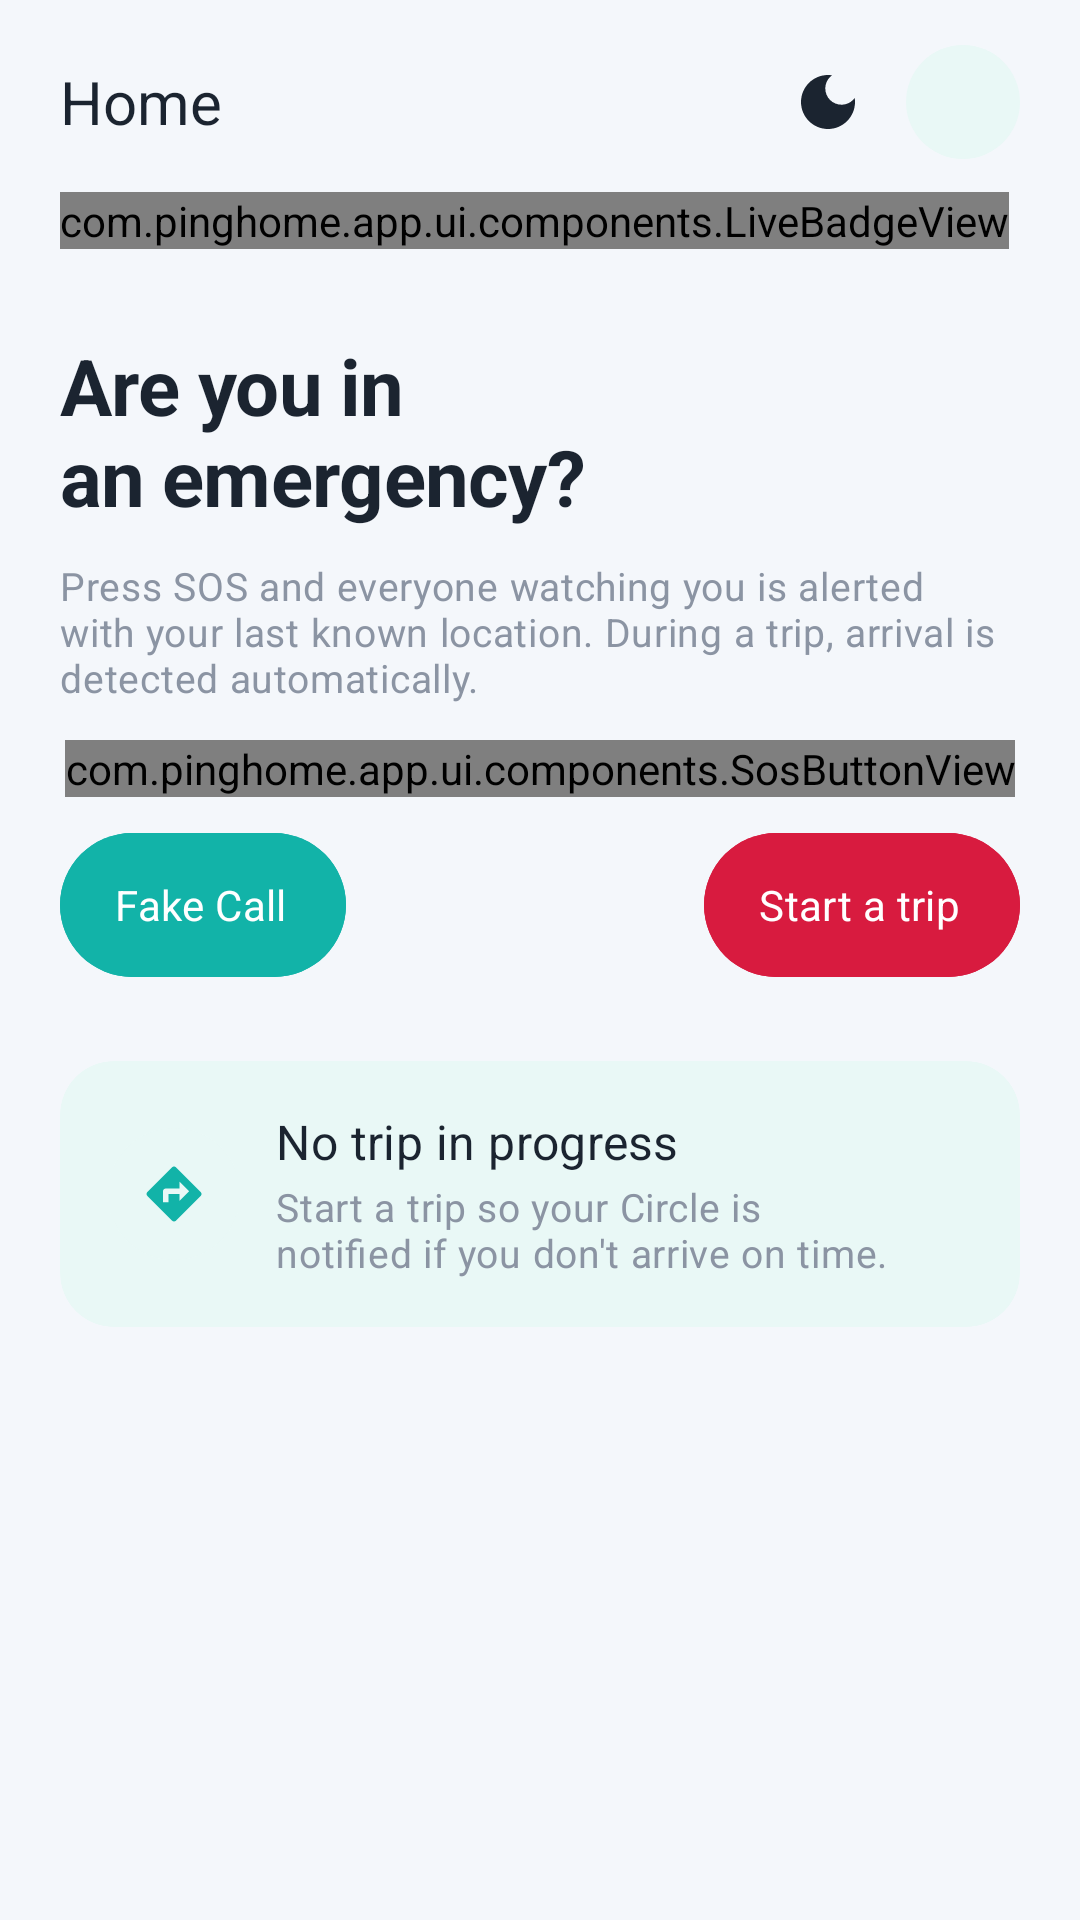

Locate icon controls on the screen. Image size 1080×1920, boxes as [x1, y1, x2, y2].
directions: [146, 1166, 202, 1222]
Toggle light or dark theme: [801, 75, 855, 129]
